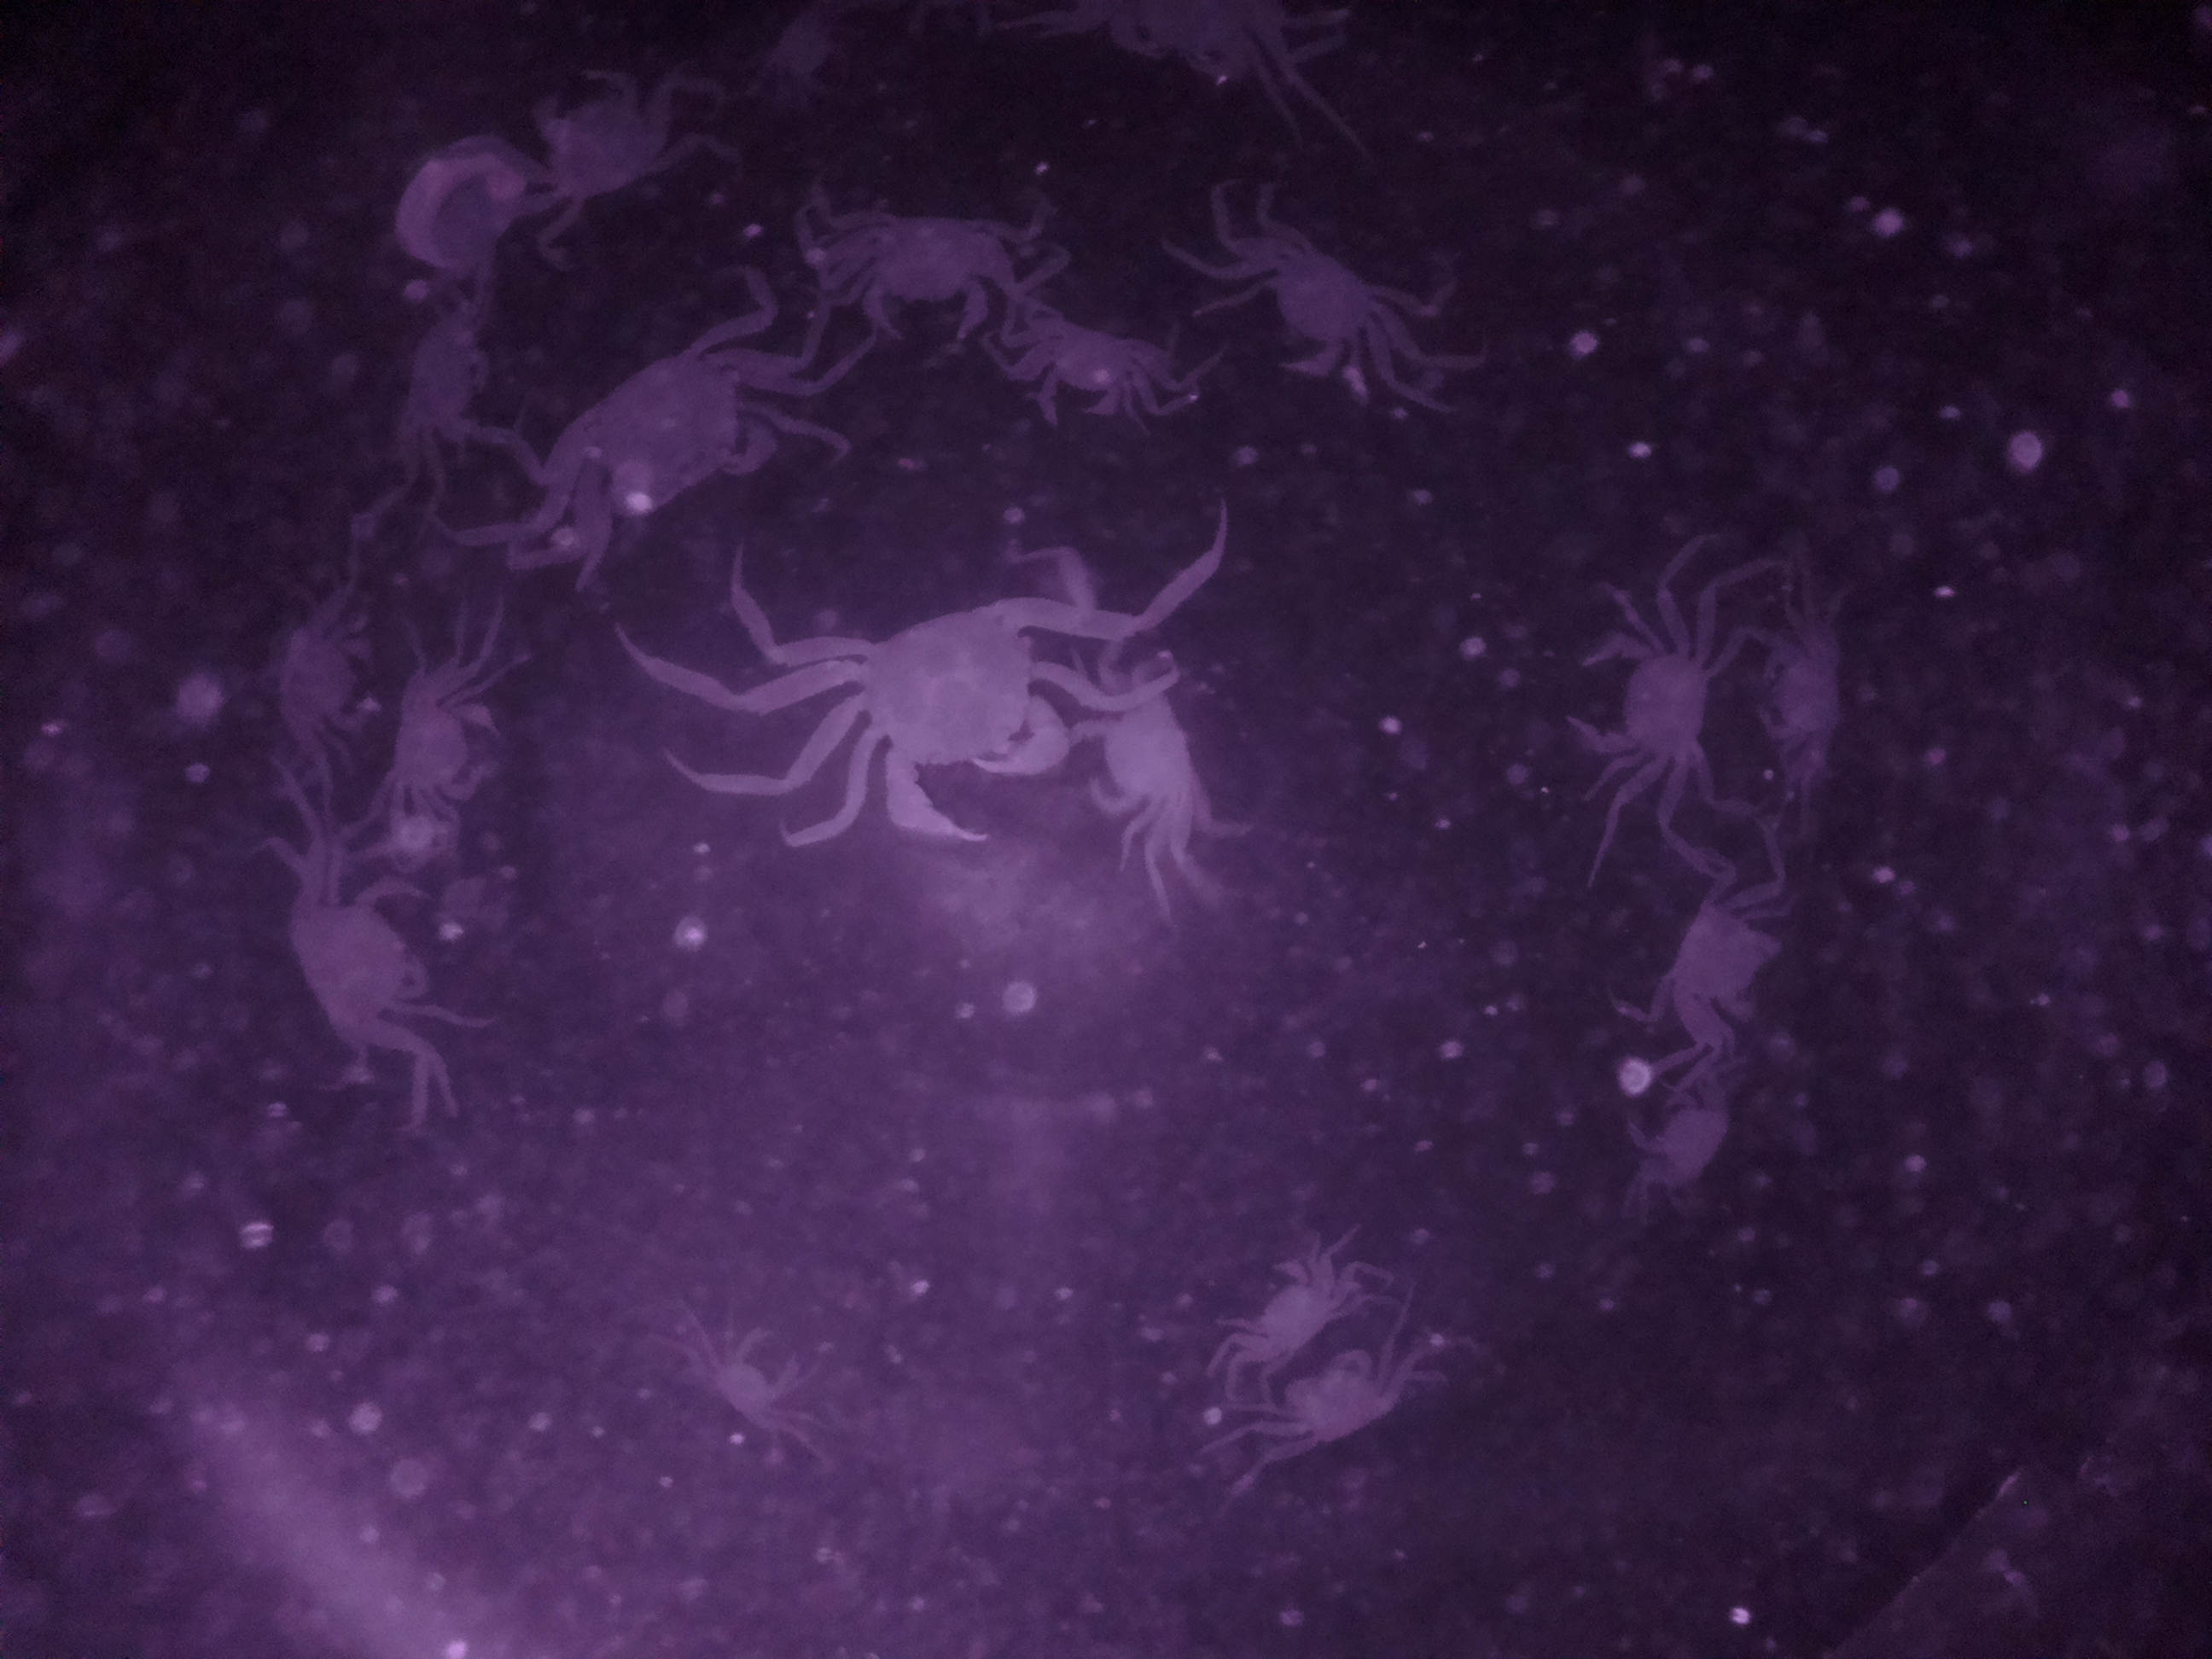Crab: (824, 577, 1064, 843), (547, 328, 773, 549), (261, 871, 448, 1084), (1212, 239, 1423, 399), (1552, 624, 1731, 803), (1069, 676, 1214, 866), (833, 207, 1010, 350), (1646, 882, 1794, 1051), (392, 648, 507, 835), (260, 598, 378, 762), (993, 314, 1157, 429), (1235, 1234, 1360, 1384), (1263, 1328, 1397, 1462)
